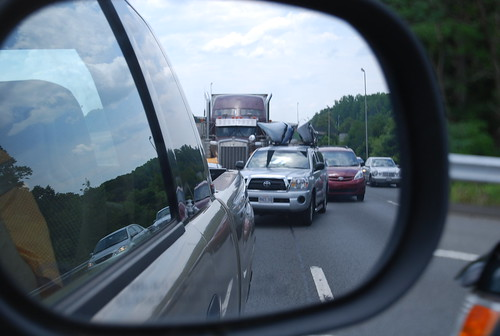car: (238, 140, 330, 231), (321, 142, 368, 205), (363, 156, 400, 188)
sky: (150, 2, 368, 106)
truck: (200, 88, 277, 169)
